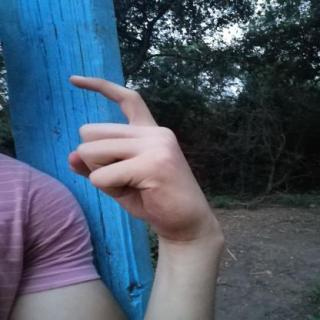RAA: (55, 69, 229, 248)
